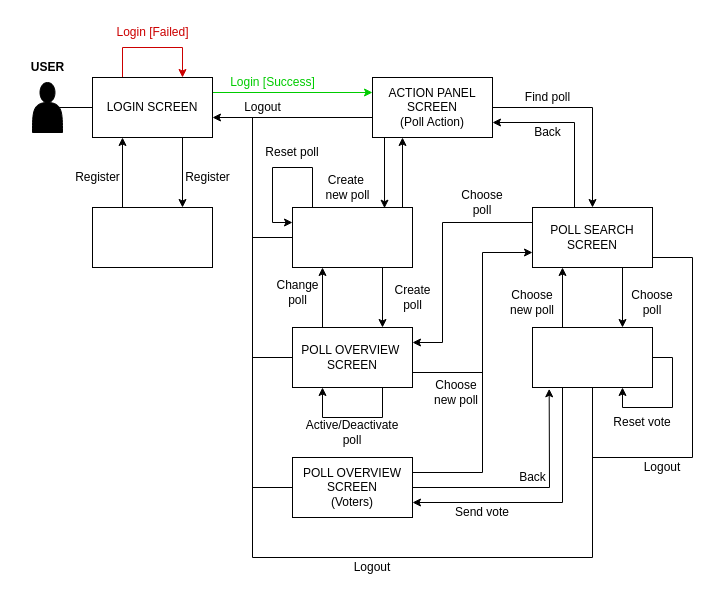
Some shapes in this 711 by 599 pixel diagram are drawn without their labels. Here are the shapes that lost their labels. From the top down, the box of each, then its label:
(92, 206, 212, 268): REGISTER SCREEN
(292, 206, 412, 268): POLL CREATION SCREEN
(532, 326, 652, 388): VOTING SCREEN
